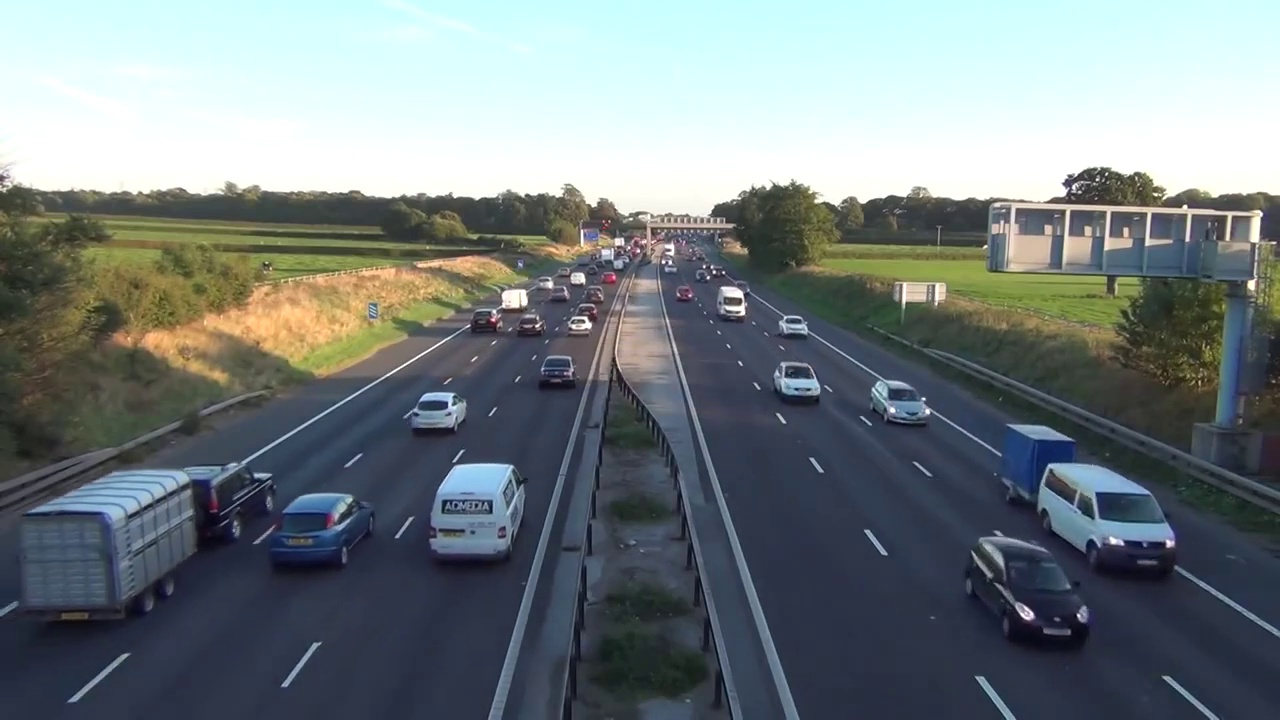bus: (1037, 461, 1177, 582), (966, 536, 1092, 648), (177, 460, 279, 546), (267, 491, 377, 570), (868, 379, 931, 429), (411, 391, 469, 435), (773, 360, 823, 404), (538, 354, 579, 390), (470, 307, 504, 333), (778, 315, 809, 339), (517, 313, 546, 336), (567, 315, 593, 337), (585, 285, 607, 304), (576, 303, 599, 321), (549, 285, 570, 301), (674, 285, 693, 302), (569, 271, 587, 287), (735, 280, 751, 296), (538, 276, 554, 290), (695, 269, 711, 283), (600, 271, 617, 284), (711, 264, 727, 277)
car: (429, 461, 530, 565), (716, 285, 747, 322), (501, 289, 529, 311)
